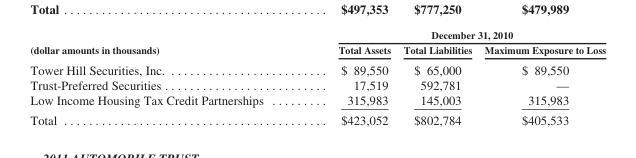table: (29, 28, 605, 126)
table column: (29, 28, 300, 126), (477, 28, 605, 126), (300, 28, 396, 126), (396, 28, 477, 126)
table column header: (29, 28, 605, 58)
table row: (29, 58, 605, 76), (29, 91, 605, 109), (29, 109, 605, 126), (29, 42, 605, 58), (29, 76, 605, 91), (29, 28, 605, 42)
table spanning cell: (29, 28, 300, 58), (300, 28, 605, 42)
